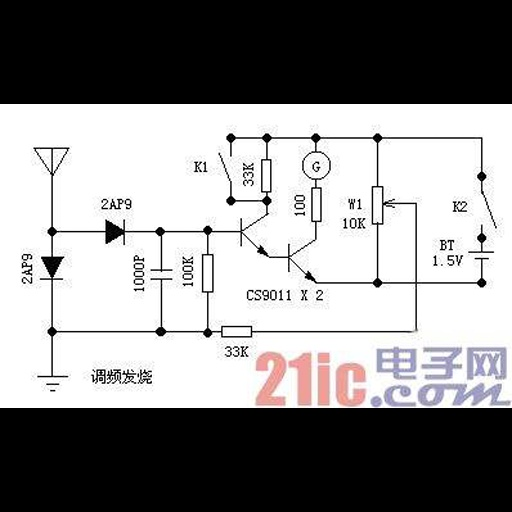capacitor: (148, 265, 176, 288)
firstresistance: (197, 249, 219, 297), (258, 156, 279, 194), (309, 185, 328, 226), (218, 324, 256, 341)
gnd: (33, 374, 69, 394)
npn: (284, 232, 326, 287), (232, 211, 276, 263)
seconddiode: (99, 215, 130, 251), (38, 253, 66, 285)
